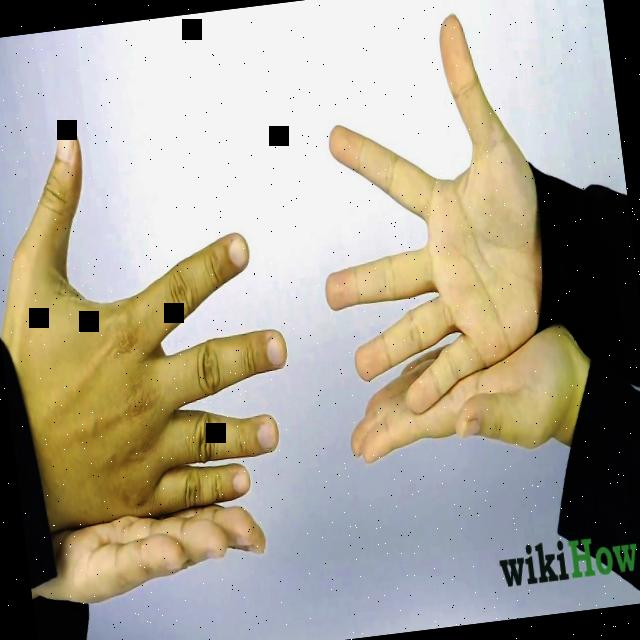Paper: (0, 97, 305, 533), (290, 2, 560, 422)
